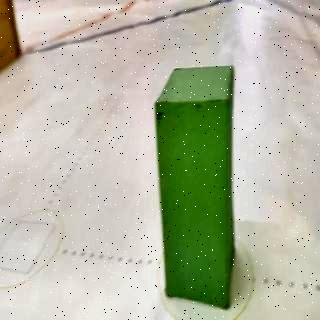greenbox: (152, 65, 238, 310)
